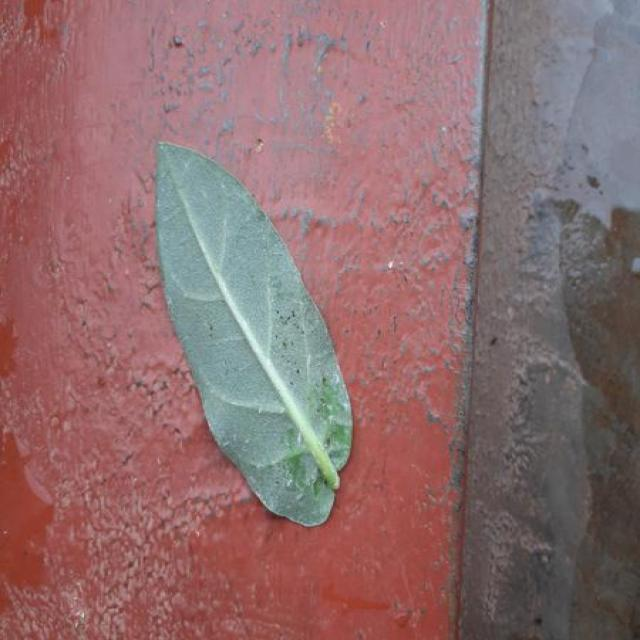ekka: (157, 144, 352, 526)
